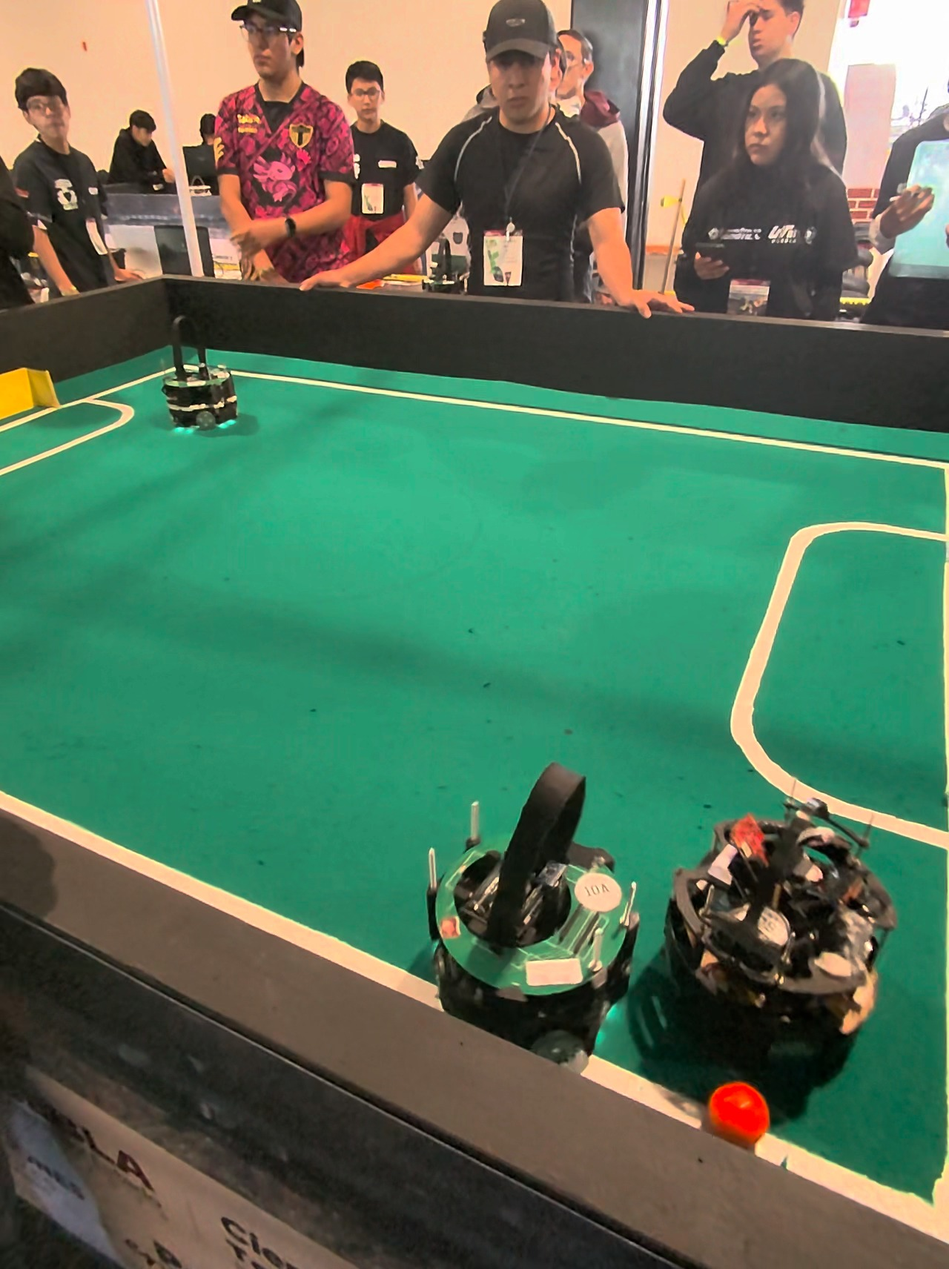Robot: (667, 791, 908, 1137), (432, 734, 662, 1078), (160, 284, 247, 443)
